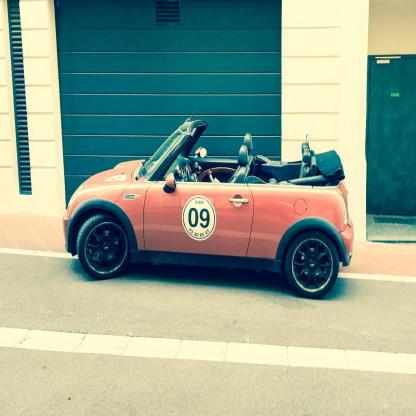Car: (63, 88, 355, 300)
